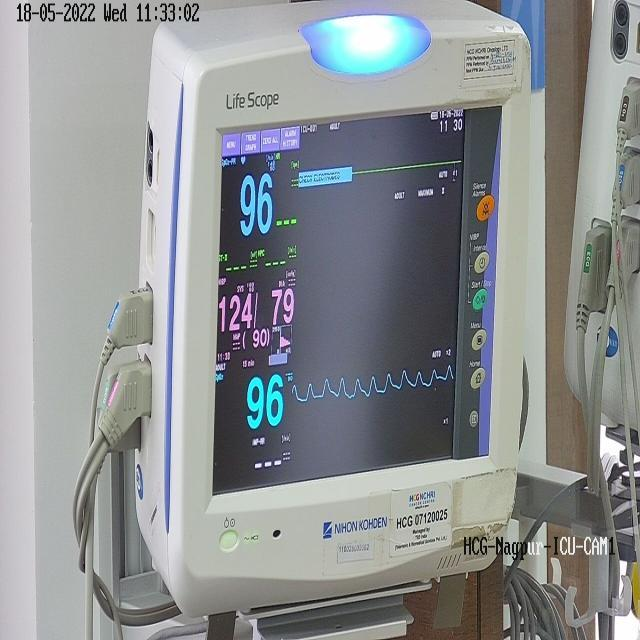Monitor: (132, 1, 534, 623)
